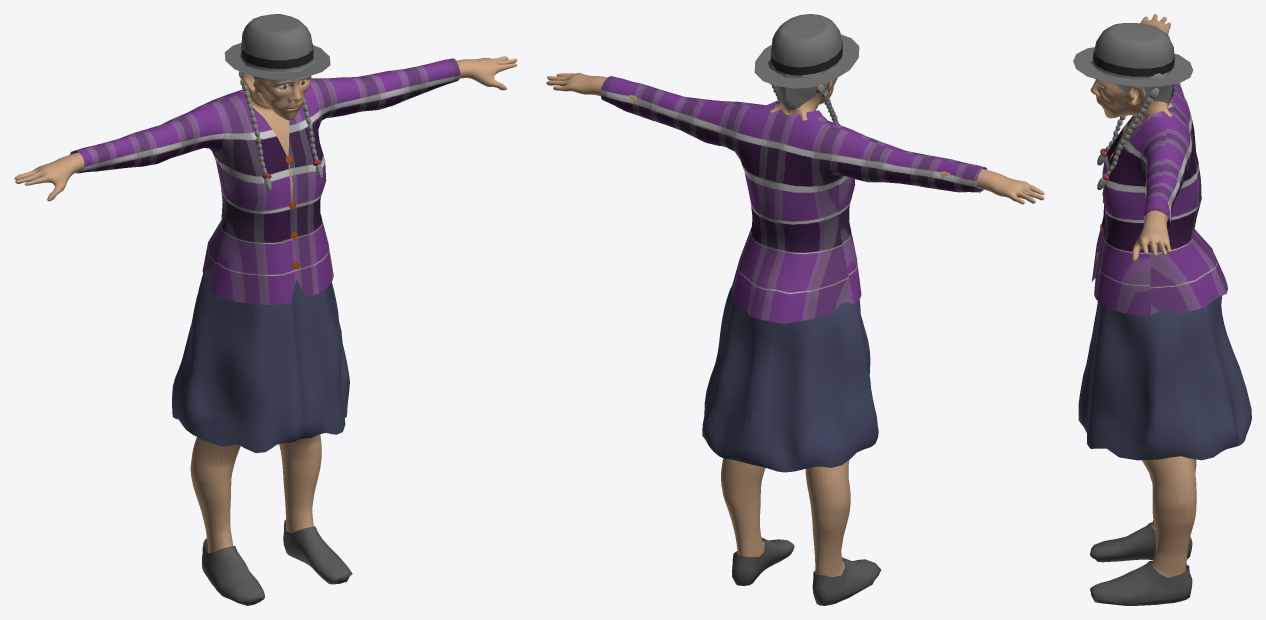
File: campesino_abuela.fbx
The picture shows the model from 3 angles, left to right: view 1: azimuth 30°, elevation 25°; view 2: azimuth 150°, elevation 25°; view 3: azimuth 270°, elevation 25°; orthographic projection.
Visible parts, largest first — view 1: anciana1, PM3D_Sphereinder3D3, anciana, anciana2, pCylinder4, pSphere19, pCylinder10; view 2: anciana1, PM3D_Sphereinder3D3, anciana, pCylinder4, anciana2, pPlane3; view 3: PM3D_Sphereinder3D3, anciana1, anciana, pCylinder4, anciana2, pSphere19, pCylinder10, pPlane3.
Part boxes in pixels (left/top/right/bottom): anciana1: left=70, top=58, right=460, bottom=304; PM3D_Sphereinder3D3: left=172, top=275, right=349, bottom=453; anciana: left=14, top=56, right=517, bottom=553; anciana2: left=202, top=520, right=352, bottom=605; pCylinder4: left=224, top=14, right=330, bottom=79; pSphere19: left=238, top=71, right=323, bottom=191; pCylinder10: left=241, top=43, right=313, bottom=68; anciana1: left=600, top=76, right=986, bottom=323; PM3D_Sphereinder3D3: left=702, top=286, right=878, bottom=472; anciana: left=546, top=72, right=1044, bottom=577; pCylinder4: left=754, top=14, right=859, bottom=88; anciana2: left=732, top=537, right=881, bottom=605; pPlane3: left=768, top=59, right=833, bottom=112; PM3D_Sphereinder3D3: left=1078, top=296, right=1251, bottom=460; anciana1: left=1092, top=32, right=1227, bottom=316; anciana: left=1090, top=14, right=1196, bottom=577; pCylinder4: left=1073, top=23, right=1193, bottom=86; anciana2: left=1090, top=522, right=1192, bottom=605; pSphere19: left=1097, top=88, right=1158, bottom=189; pCylinder10: left=1093, top=51, right=1174, bottom=76; pPlane3: left=1135, top=66, right=1175, bottom=105.
Size of the model in its own units: 13.12 by 13.95 by 4.12.
